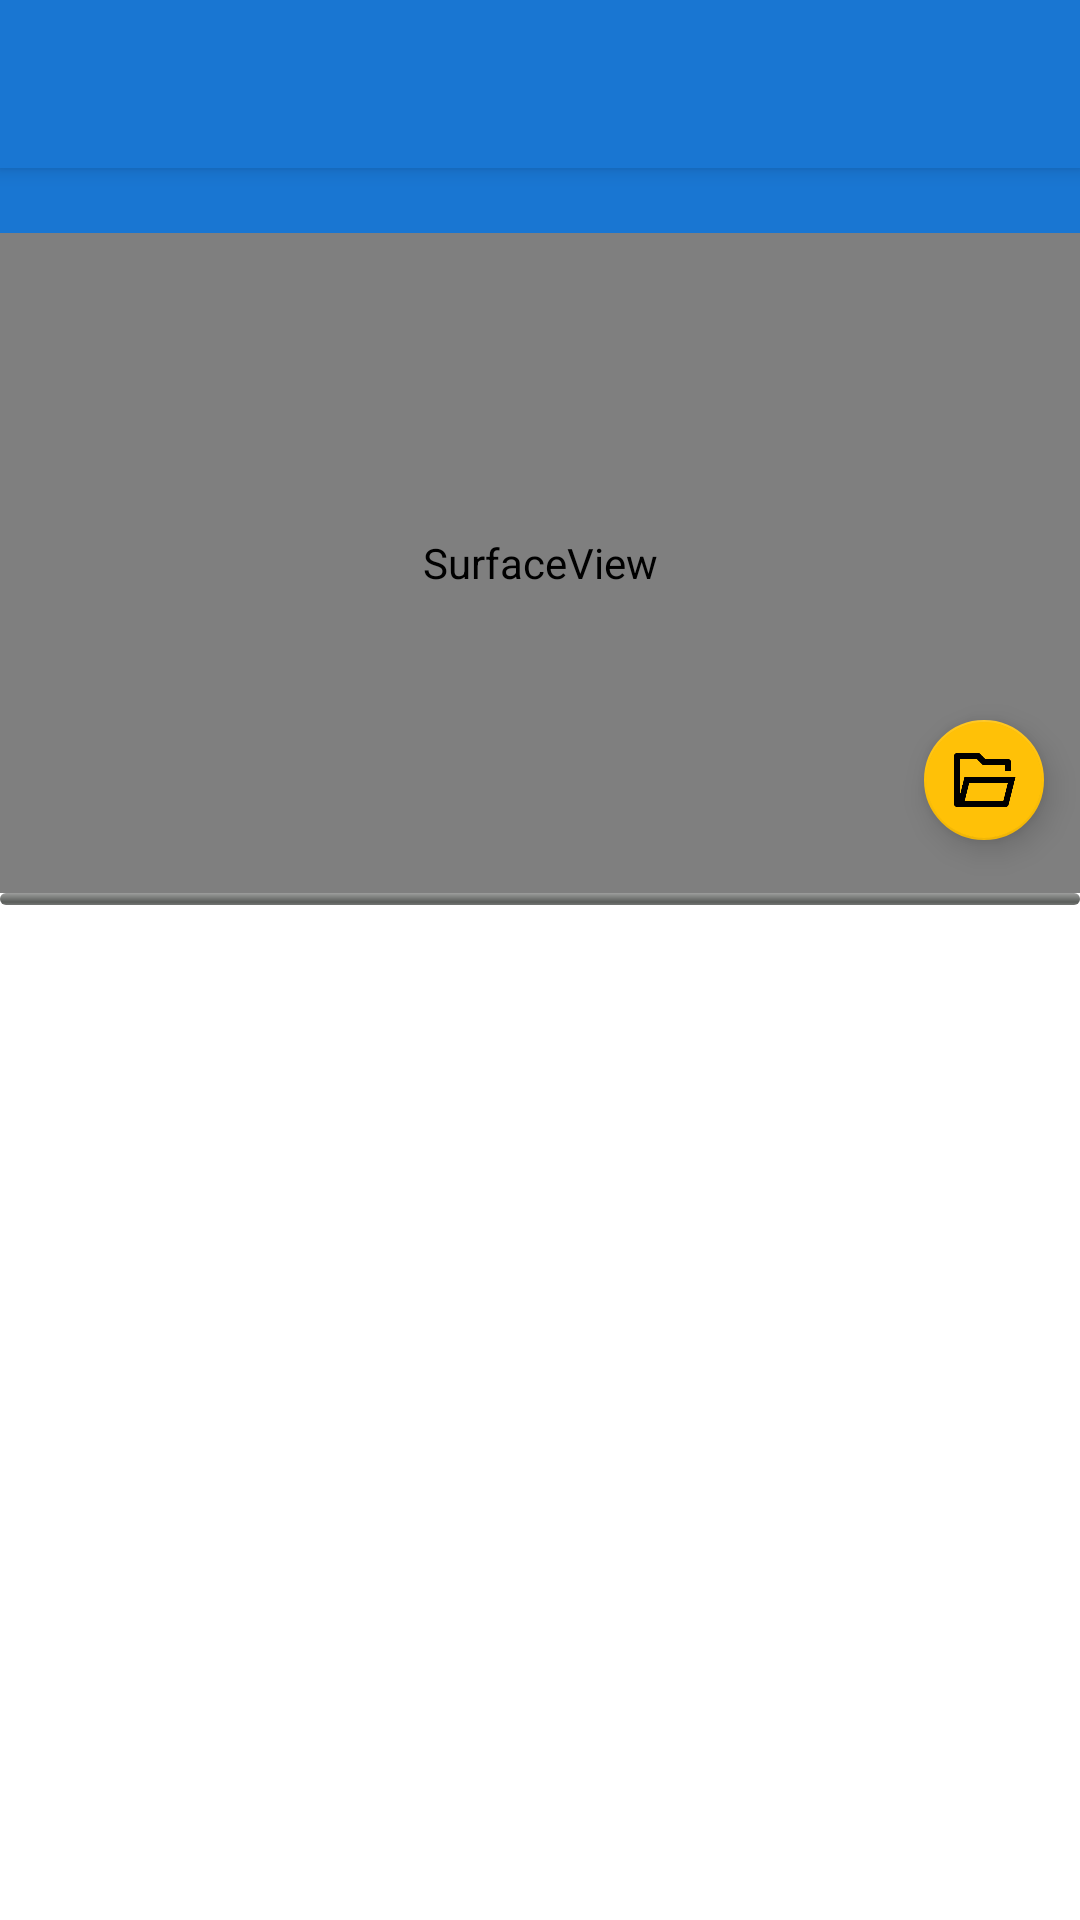

Icons on this 1080px x 1920px Android screen, each with its box as Rect(x1, y1, x2, y2):
folder open: Rect(924, 720, 1044, 840)
